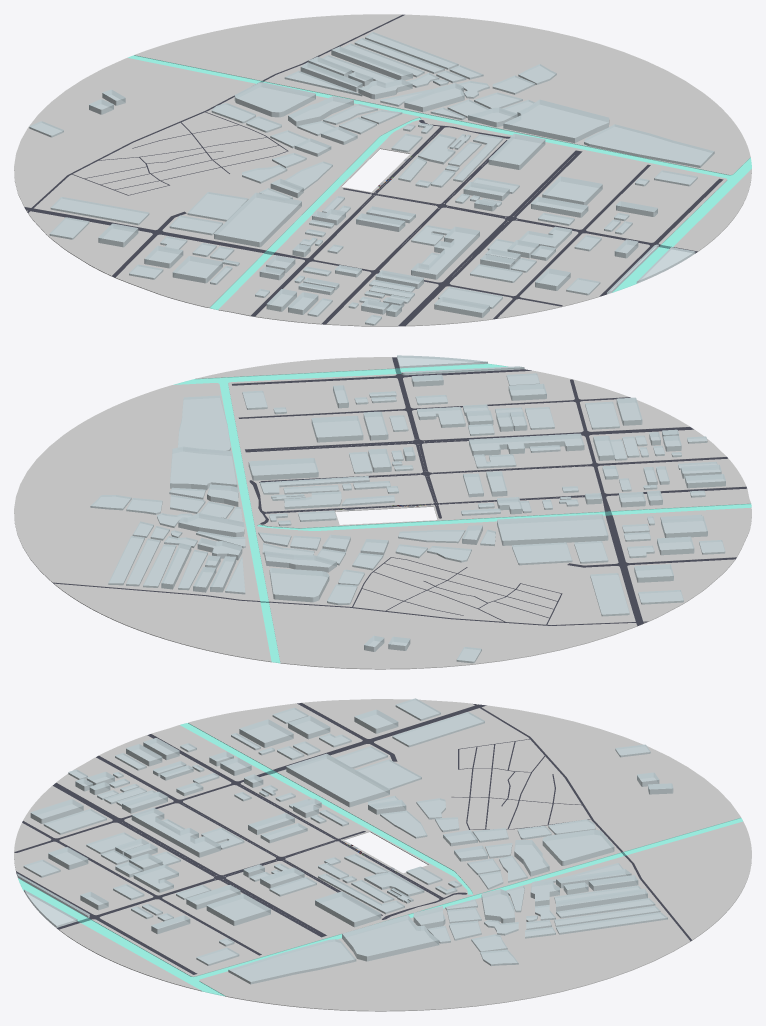
The model's file is 周边其他.glb.
3 views of the same model, one above another, from view 1: azimuth 30°, elevation 25°; view 2: azimuth 150°, elevation 25°; view 3: azimuth 270°, elevation 25° (orthographic).
Parts seen in each view (by area): view 1: 04-地面, 02-周边房子, 03-道路, 01-水路; view 2: 04-地面, 02-周边房子, 03-道路, 01-水路; view 3: 04-地面, 02-周边房子, 03-道路, 01-水路.
Part boxes in pixels (bbox=[...]): 04-地面: bbox=[14, 14, 751, 326]; 02-周边房子: bbox=[29, 32, 714, 325]; 03-道路: bbox=[24, 14, 722, 326]; 01-水路: bbox=[128, 55, 751, 309]; 04-地面: bbox=[14, 357, 751, 669]; 02-周边房子: bbox=[90, 355, 725, 663]; 03-道路: bbox=[53, 357, 746, 626]; 01-水路: bbox=[173, 363, 751, 663]; 04-地面: bbox=[14, 699, 751, 1011]; 02-周边房子: bbox=[17, 698, 673, 984]; 03-道路: bbox=[14, 703, 691, 974]; 01-水路: bbox=[18, 723, 742, 996].
Bounding box in the file's own units: 2731 × 23.11 × 2731.
8 materials, 3 textured.
